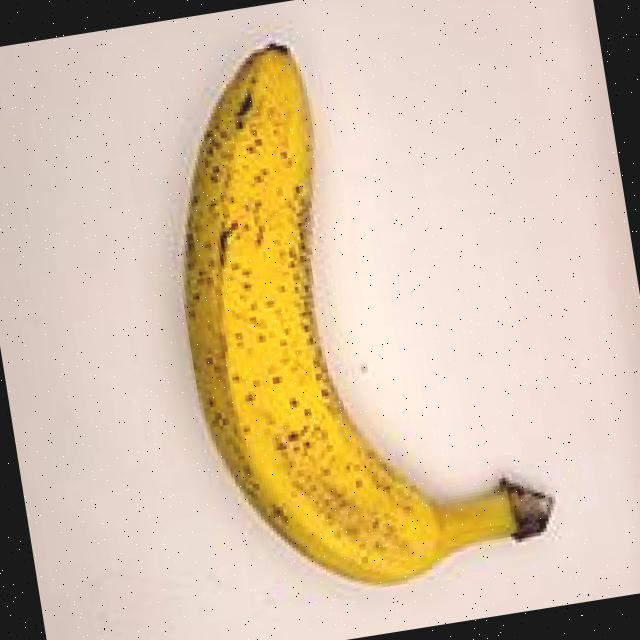Overripe: (106, 0, 600, 637)
